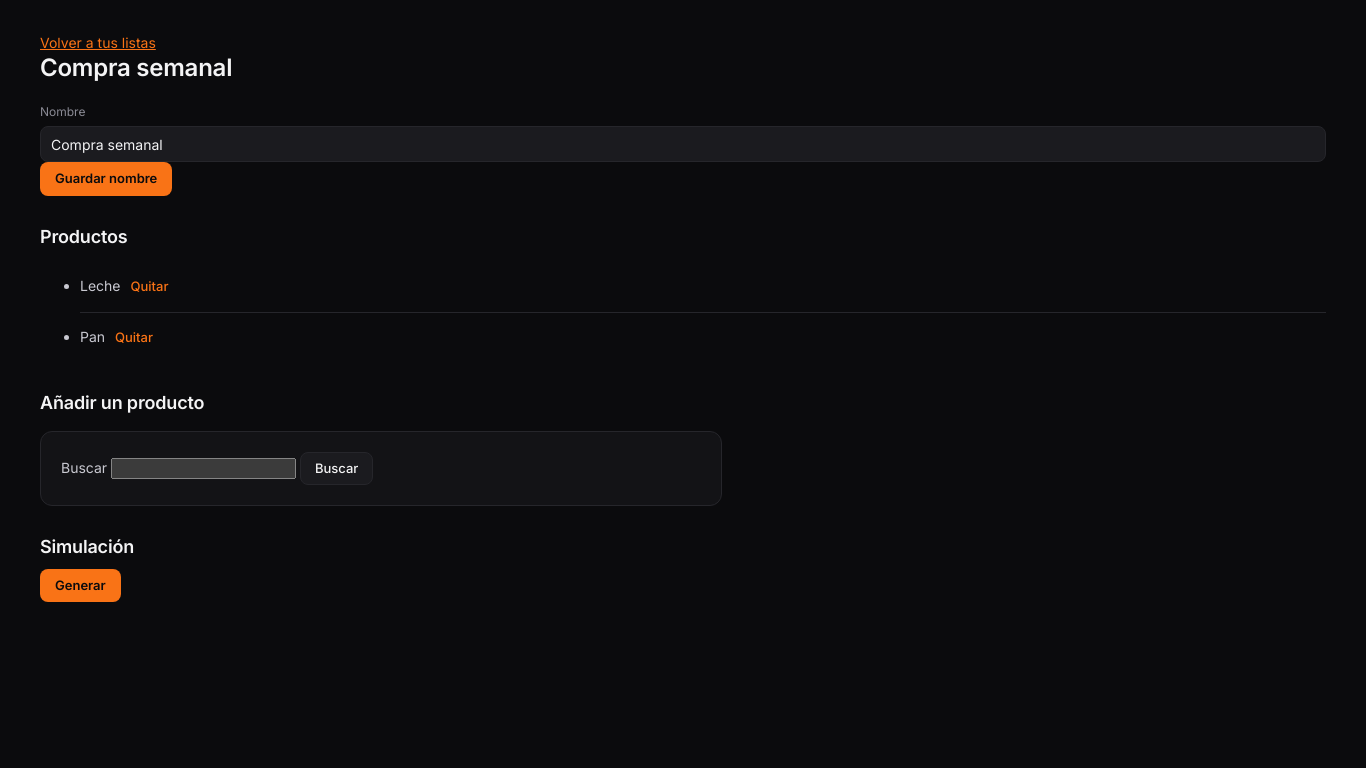
ShoppingListDetailPage › Generar simulación › muestra los cuatro bloques con los totales correctos
Check: the list item "Leche" is shown, box [80,277,120,294]
Click the button "Generar": (80, 586) [40,569,121,602]
(page scrolled)
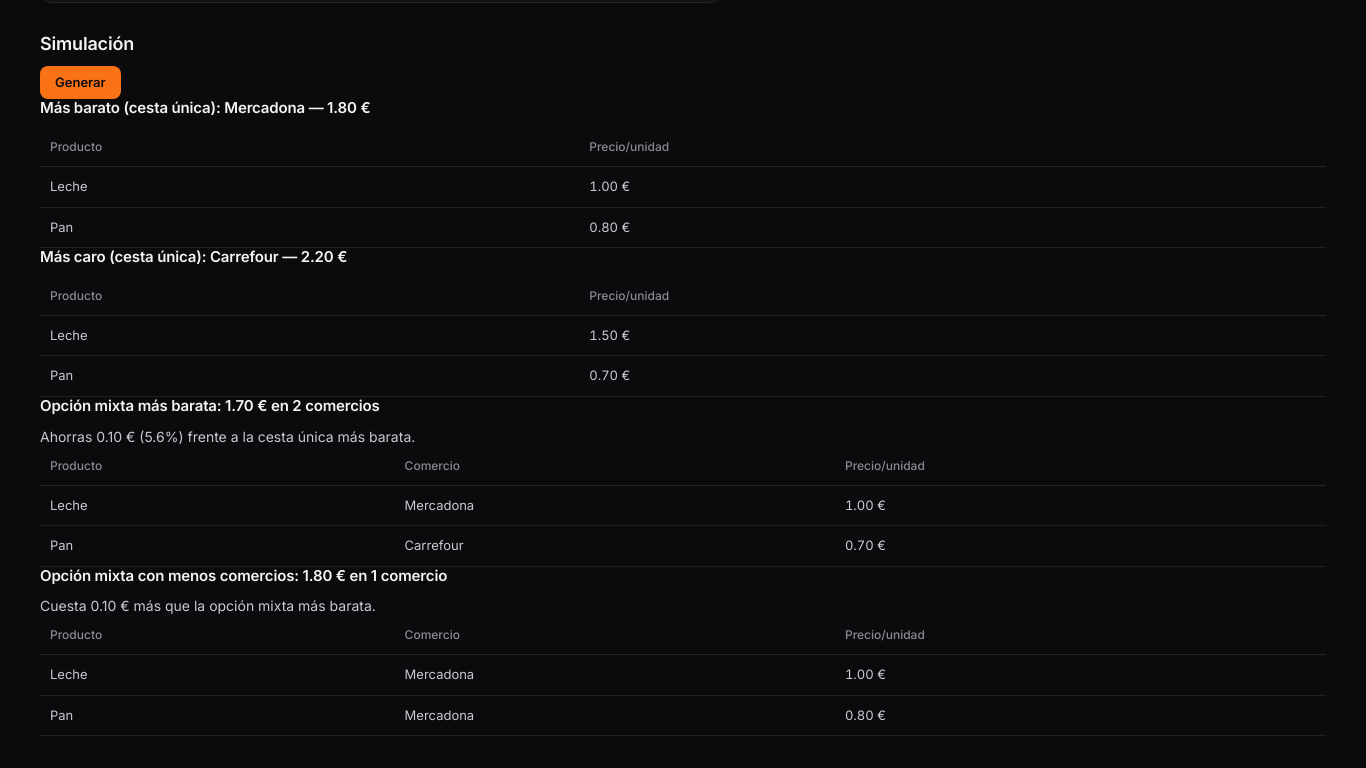
Check: the heading "Más barato (cesta única): Mercadona — 1.80 €" is shown, box [40,98,370,118]
Check: the heading "Más caro (cesta única): Carrefour — 2.20 €" is shown, box [40,247,347,266]
Check: the heading "Opción mixta más barata: 1.70 € en 2 comercios" is shown, box [40,396,380,415]
